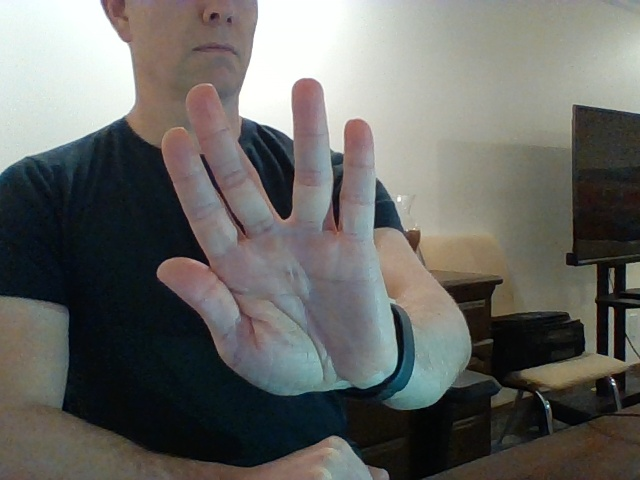LiveLong: (156, 78, 398, 397)
